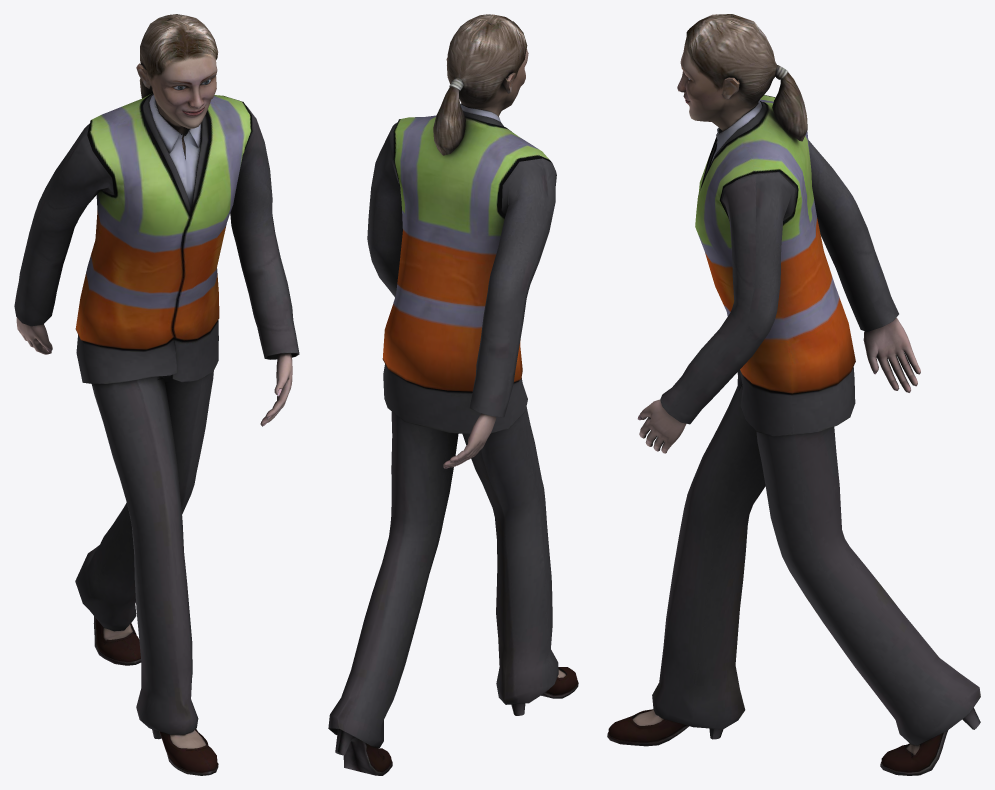
File: SWRK01_06_03.FBX
The picture shows the model from 3 angles, left to right: view 1: azimuth 30°, elevation 25°; view 2: azimuth 150°, elevation 25°; view 3: azimuth 270°, elevation 25°; orthographic projection. The views are drawn at different scales.
Parts seen in each view (by area): view 1: SWRK01_06_03; view 2: SWRK01_06_03; view 3: SWRK01_06_03.
Boxes of the visible parts, bbox=[...] form: SWRK01_06_03: bbox=[14, 14, 299, 775]; SWRK01_06_03: bbox=[328, 14, 578, 775]; SWRK01_06_03: bbox=[607, 14, 980, 775].
Bounding box in the file's own units: 19.01 × 65.38 × 30.21.
Materials: 1 (1 with a texture image).
